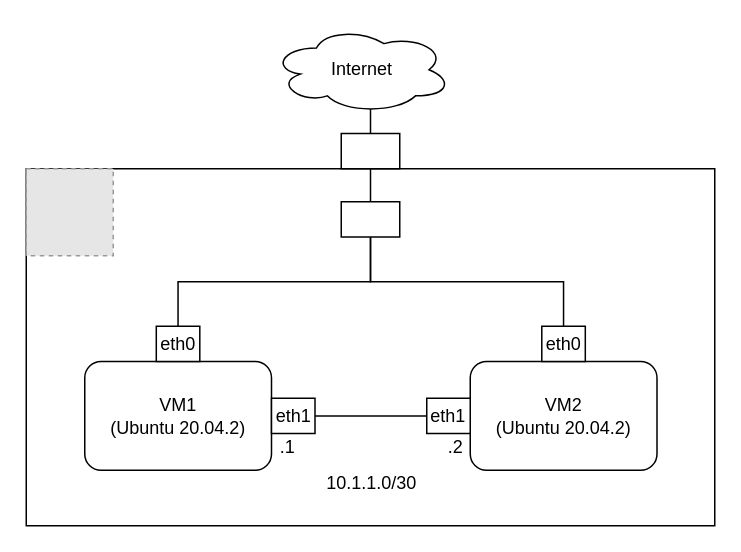
Image size: 741x552. Some labels were removed from this diagram. Grey dashed boxes stand in for pictures. The shapes that lost their labels are listed below. From the top down, each one's centre as x and y in pixels, then its label:
At (x=370, y=150): "enp".
At (x=370, y=218): "vmbr".
